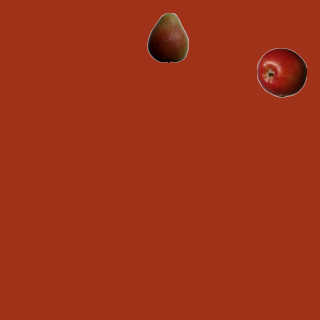Apple Braeburn: (256, 47, 306, 97)
Pear Forelle: (142, 12, 192, 62)
